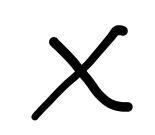mult: (32, 25, 131, 121)
